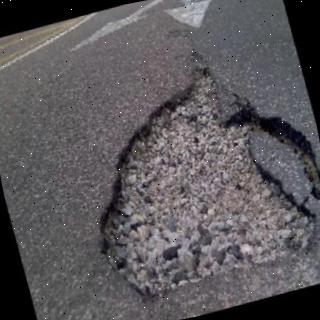pothole: (99, 70, 320, 297)
